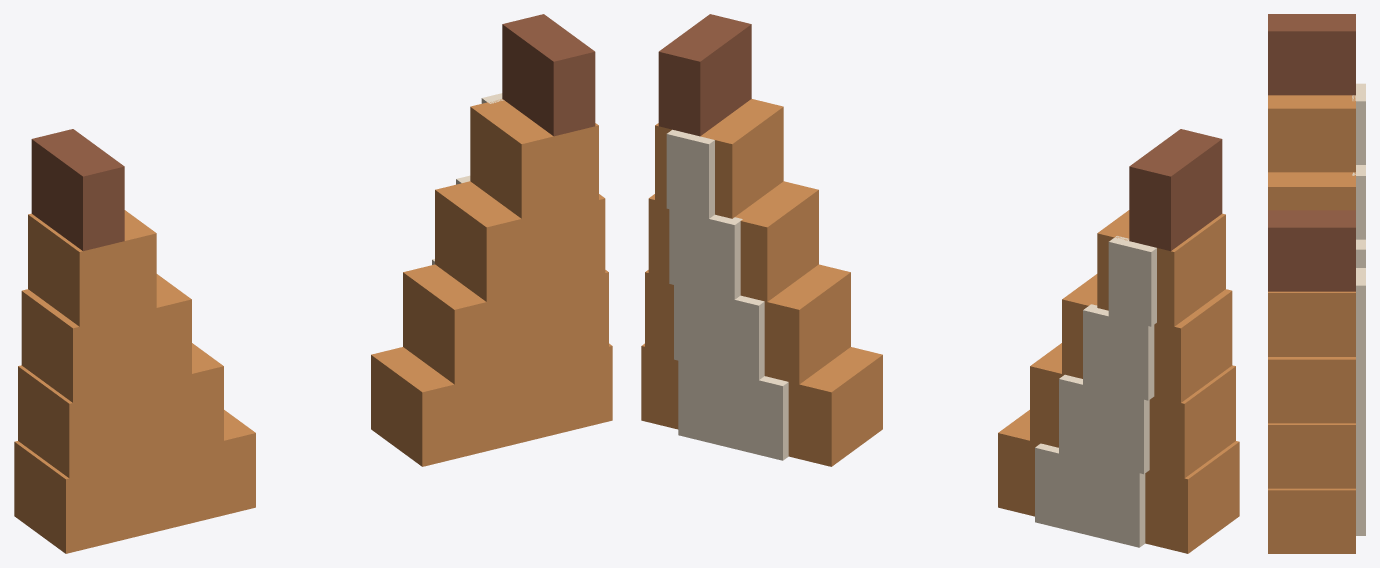
The model's file is orelhas_gato_raposa.glb.
The picture shows the model from 3 angles, left to right: view 1: azimuth 30°, elevation 25°; view 2: azimuth 150°, elevation 25°; view 3: azimuth 270°, elevation 25°; orthographic projection. The views are drawn at different scales.
Visible parts, largest first — view 1: orelhas_gato_raposa; view 2: orelhas_gato_raposa; view 3: orelhas_gato_raposa.
Part boxes in pixels (x1,y1,x2,y2): orelhas_gato_raposa: (14,14,612,553); orelhas_gato_raposa: (641,14,1239,553); orelhas_gato_raposa: (1268,14,1365,553).
Bounding box in the file's own units: 0.46 × 0.3 × 0.0835.
